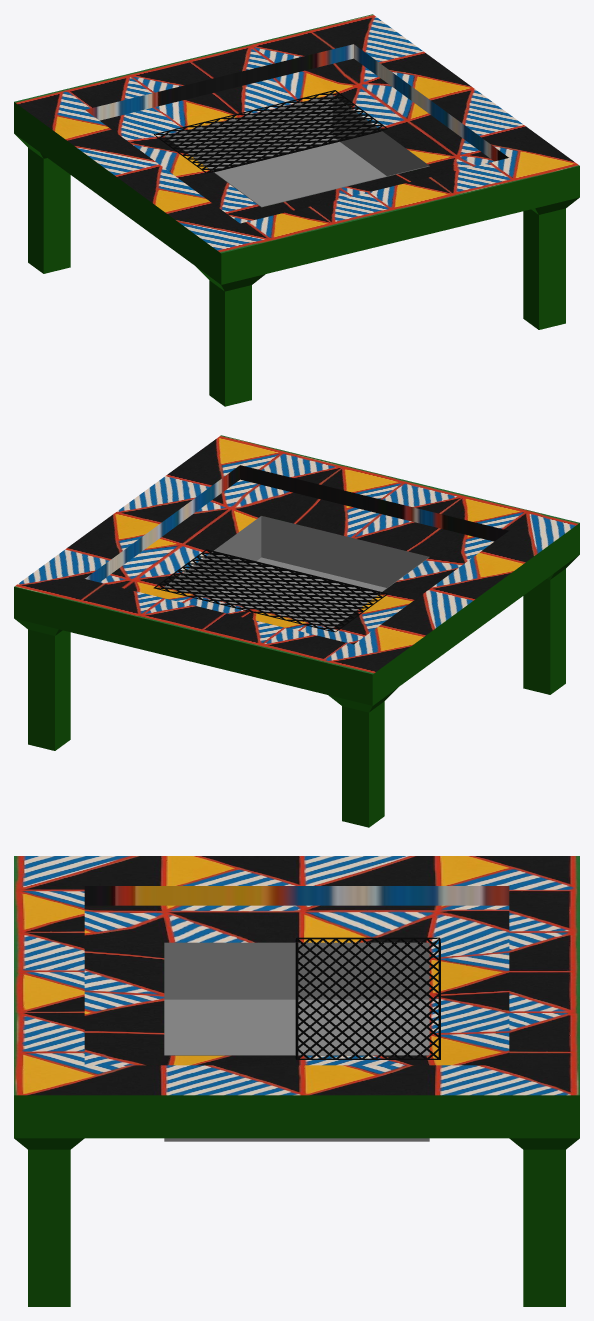
The model's file is bonfire.glb.
The picture shows the model from 3 angles, top to bottom: view 1: azimuth 30°, elevation 25°; view 2: azimuth 150°, elevation 25°; view 3: azimuth 270°, elevation 25°; orthographic projection. The views are drawn at different scales.
Parts seen in each view (by area): view 1: Cube, Cube.001, Plane; view 2: Cube, Cube.001, Plane; view 3: Cube, Cube.001, Plane.
Part boxes in pixels (x1=…): Cube: x1=14, y1=14, x2=579, y2=406; Cube.001: x1=164, y1=95, x2=429, y2=207; Plane: x1=154, y1=90, x2=387, y2=173; Cube: x1=14, y1=435, x2=579, y2=827; Cube.001: x1=164, y1=516, x2=429, y2=627; Plane: x1=153, y1=549, x2=387, y2=632; Cube: x1=14, y1=856, x2=579, y2=1306; Cube.001: x1=164, y1=942, x2=429, y2=1141; Plane: x1=295, y1=937, x2=440, y2=1059.
Size of the model in its own units: 3.2 by 1.36 by 3.2.
Materials: 4 (1 with a texture image).
